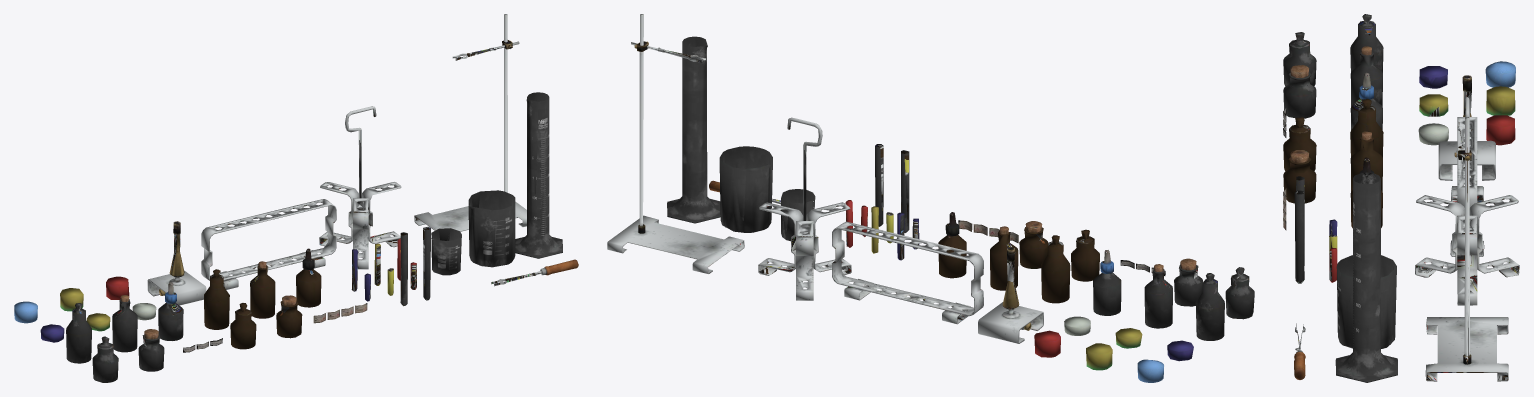
The model's file is chem_set.glb.
The picture shows the model from 3 angles, left to right: view 1: azimuth 30°, elevation 25°; view 2: azimuth 150°, elevation 25°; view 3: azimuth 270°, elevation 25°; orthographic projection. The views are drawn at different scales.
Parts seen in each view (by area): view 1: chemistry_set_beaker_large, chemistry_set_test_tube_content_b; view 2: chemistry_set_beaker_large, chemistry_set_test_tube_content_b; view 3: chemistry_set_beaker_large, chemistry_set_test_tube_content_b.
Boxes of the visible parts, bbox=[...] form: chemistry_set_beaker_large: bbox=[40, 92, 562, 382]; chemistry_set_test_tube_content_b: bbox=[14, 14, 578, 339]; chemistry_set_beaker_large: bbox=[667, 36, 1254, 370]; chemistry_set_test_tube_content_b: bbox=[607, 14, 1196, 382]; chemistry_set_beaker_large: bbox=[1283, 14, 1515, 382]; chemistry_set_test_tube_content_b: bbox=[1290, 46, 1519, 381].
Size of the model in its own units: 1.08 by 0.4278 by 0.3534.
2 materials, 2 textured.
